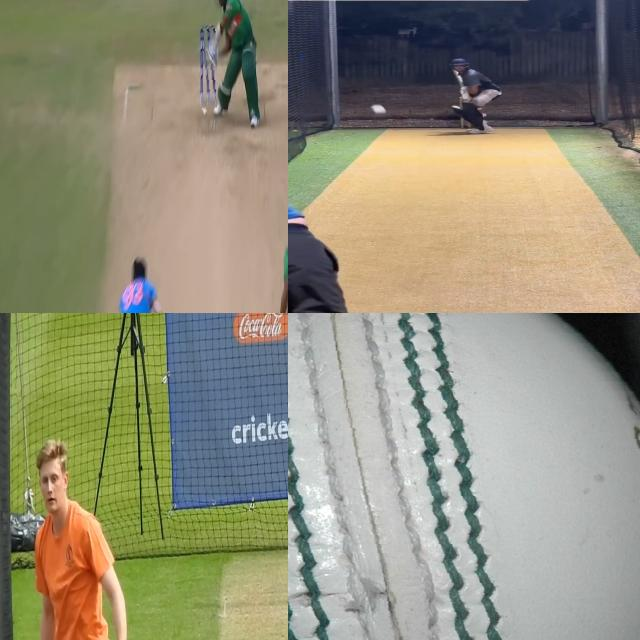Cricket ball: (288, 313, 640, 640), (370, 103, 384, 115), (201, 105, 207, 116)
Stumps: (201, 26, 217, 107)
